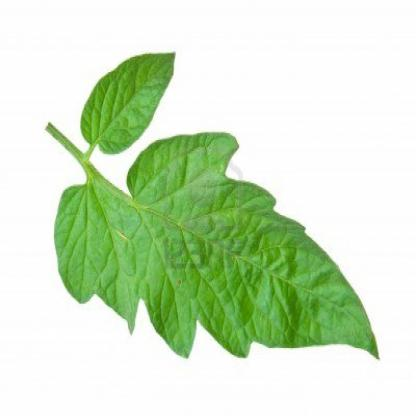Tomato leaf: (35, 130, 396, 378), (79, 36, 190, 155)
